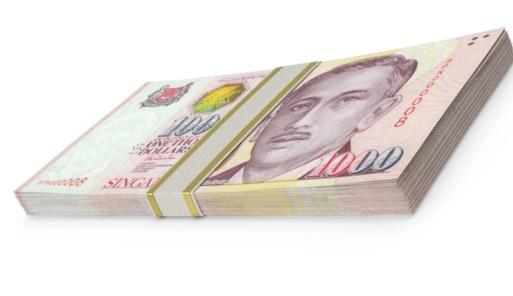1000SingaporeDollar: (34, 33, 488, 188)
